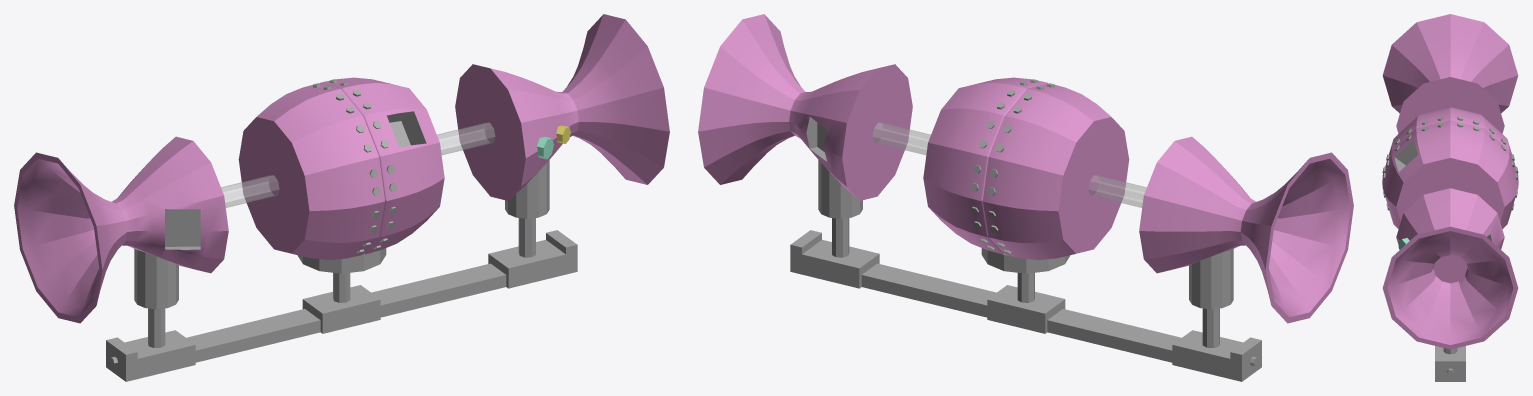
File: AnalyzerFinal.fbx
3 renders of one model, left to right at view 1: azimuth 30°, elevation 25°; view 2: azimuth 150°, elevation 25°; view 3: azimuth 270°, elevation 25°, orthographic. The views are drawn at different scales.
Visible parts, largest first — view 1: center1, pCylinder3 (×2), rightEnd1, leftEnd1, schiebeleiste, roehre, halterungLeft, halterungRight, pCylinder9 (×2), pCube5, pCube7, pCube3 (+6 smaller); view 2: center1, pCylinder3 (×2), rightEnd1, leftEnd1, schiebeleiste, roehre, halterungLeft, halterungRight, pCube8, pCylinder9 (×2), pCube6, pCube4 (+6 smaller); view 3: pCylinder3 (×2), center1, rightEnd1, leftEnd1, bremsklotzRight, fussRight.
Boxes of the visible parts, x1,y1,x2,y2 form: center1: (238, 77, 444, 259); pCylinder3 (×2): (14, 14, 669, 323); rightEnd1: (455, 64, 578, 200); leftEnd1: (111, 136, 228, 273); schiebeleiste: (186, 263, 506, 362); roehre: (221, 122, 495, 207); halterungLeft: (134, 249, 178, 309); halterungRight: (505, 160, 549, 218); pCylinder9 (×2): (148, 218, 535, 347); pCube5: (320, 298, 380, 333); pCube7: (506, 253, 566, 288); pCube3: (137, 343, 195, 378); center1: (923, 77, 1129, 259); pCylinder3 (×2): (698, 14, 1353, 323); rightEnd1: (789, 64, 912, 200); leftEnd1: (1139, 136, 1256, 273); schiebeleiste: (861, 263, 1181, 362); roehre: (872, 122, 1146, 207); halterungLeft: (1189, 249, 1233, 309); halterungRight: (818, 160, 862, 218); pCube8: (801, 253, 861, 288); pCylinder9 (×2): (832, 218, 1219, 347); pCube6: (987, 298, 1047, 333); pCube4: (1172, 343, 1230, 378); pCylinder3 (×2): (1382, 14, 1518, 349); center1: (1382, 107, 1518, 228); rightEnd1: (1396, 188, 1504, 249); leftEnd1: (1396, 77, 1504, 133); bremsklotzRight: (1435, 357, 1465, 381); fussRight: (1438, 347, 1462, 356).
Bounding box in the file's own units: 147 × 57.19 × 39.84.
